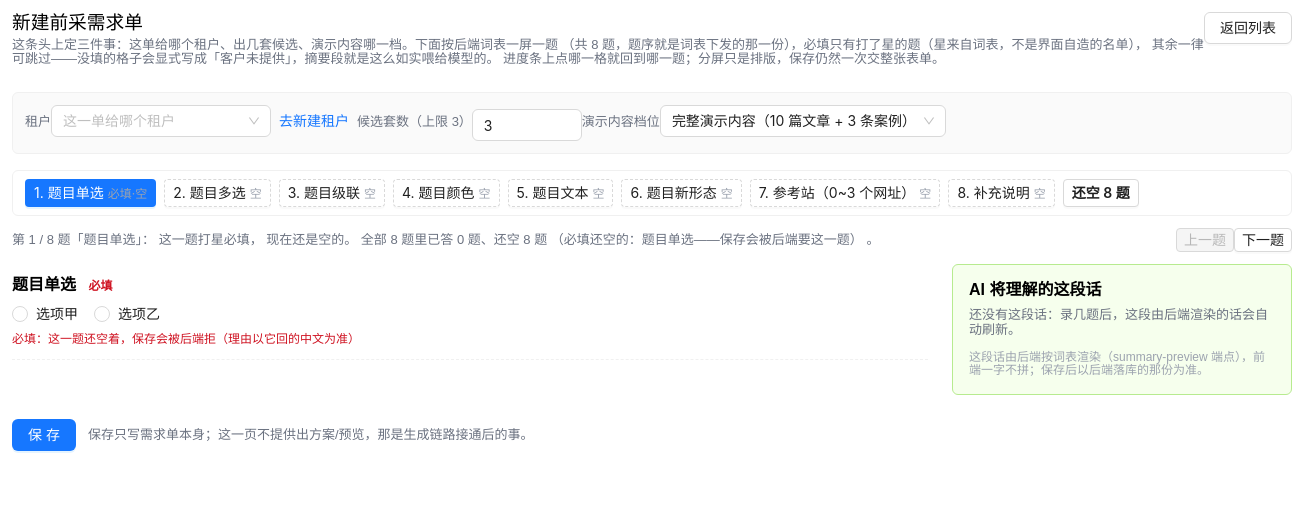
一屏一题：题序、题干与控件形态只认词表 › 参考站与补充说明各占一屏：题干与那句说明都是词表那两行里的字，界面不自己再写一句
What coordinates should you click on to do the following:
click the button with class "brief-intake__rail-chip" showing "7. 参考站（0~3 个网址） 空"
I would click on:
 (845, 193)
Its box is x1=750 y1=179 x2=940 y2=207.
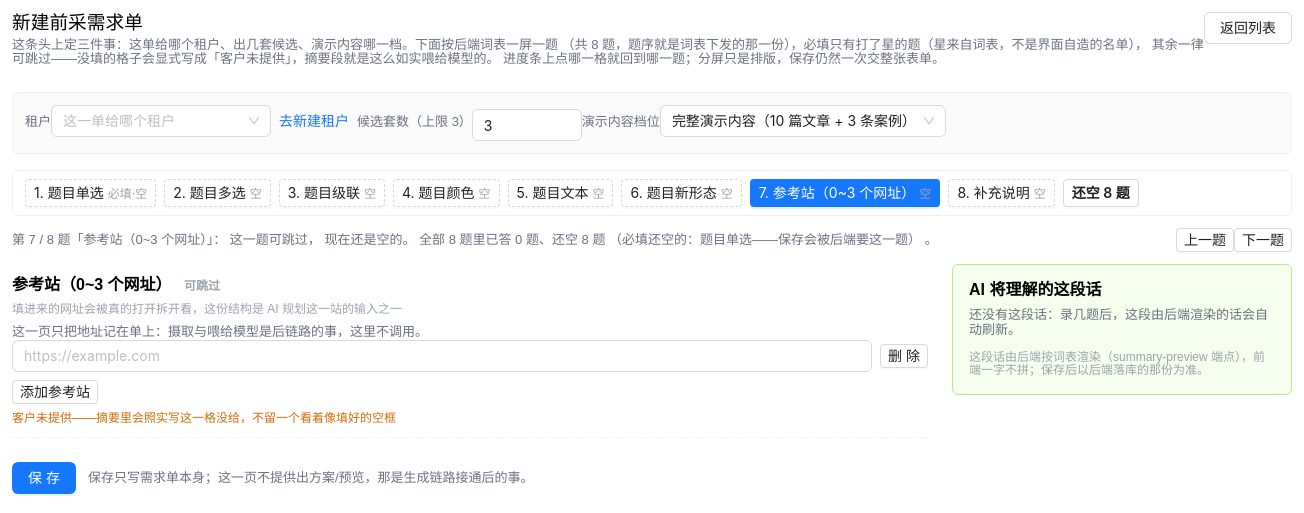
Expected: the element with class "brief-intake__static" is shown, x1=12 y1=264 x2=928 y2=438
Expected: the element with class "brief-intake__static" shows "参考站（0~3 个网址）", x1=12 y1=276 x2=176 y2=293
Expected: the element with class "brief-intake__static" shows "填进来的网址会被真的打开拆开看", x1=12 y1=302 x2=402 y2=316
What coordinates should you click on to do the following:
click the button with class "brief-intake__rail-chip" showing "8. 补充说明 空"
I would click on:
 (1002, 193)
Its box is x1=948 y1=179 x2=1055 y2=207.
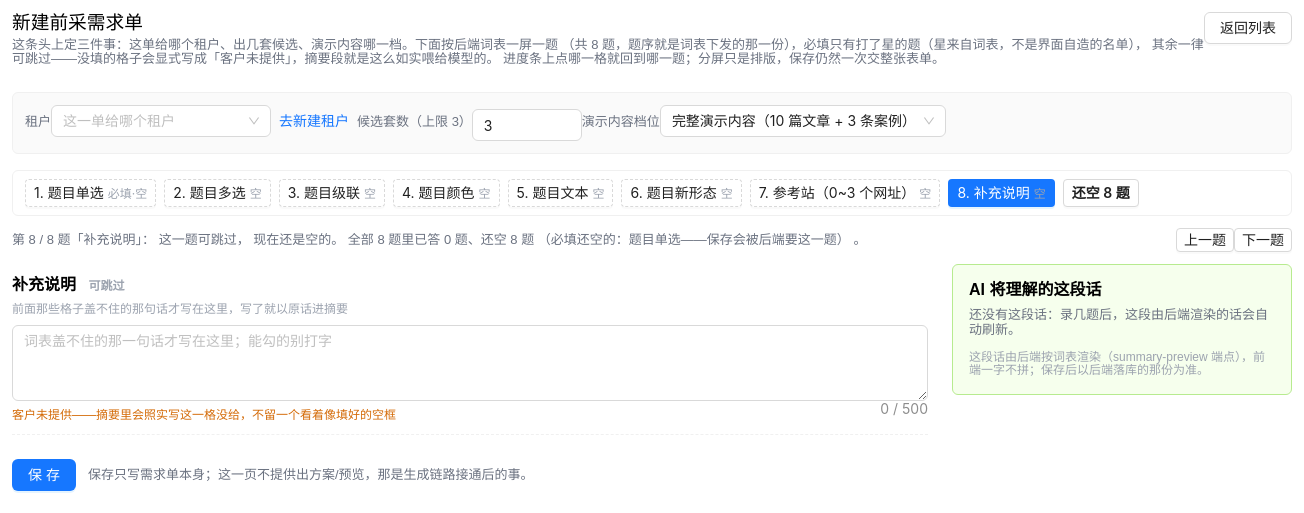
Expected: the element with class "brief-intake__static" is shown, x1=12 y1=264 x2=928 y2=435
Expected: the element with class "brief-intake__static" shows "补充说明", x1=12 y1=276 x2=80 y2=293
Expected: the element with class "brief-intake__static" shows "前面那些格子盖不住的那句话才写在这里", x1=12 y1=302 x2=348 y2=316
